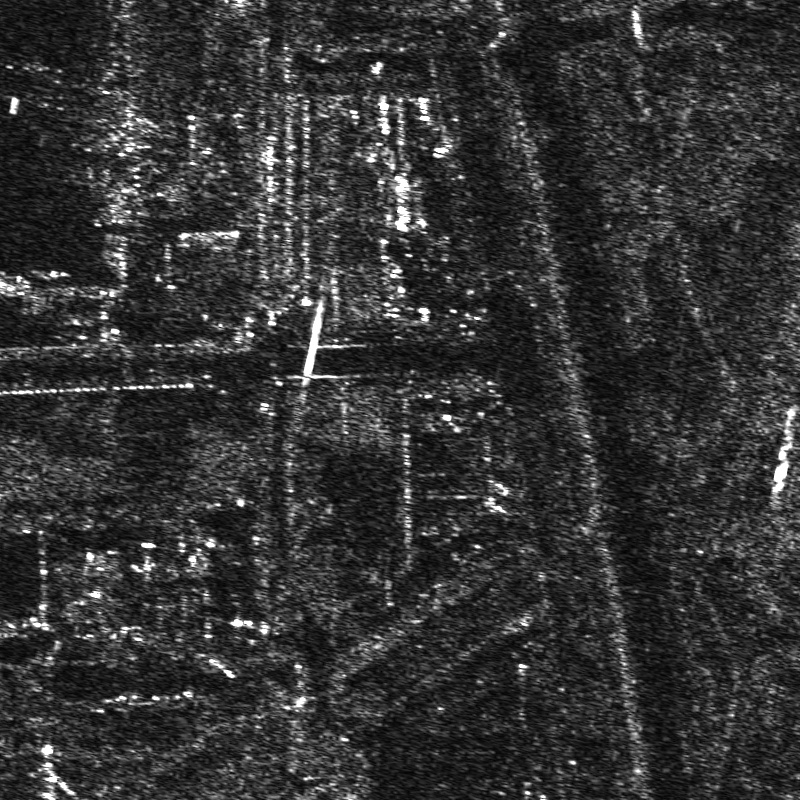A220: (5, 48, 69, 113)
